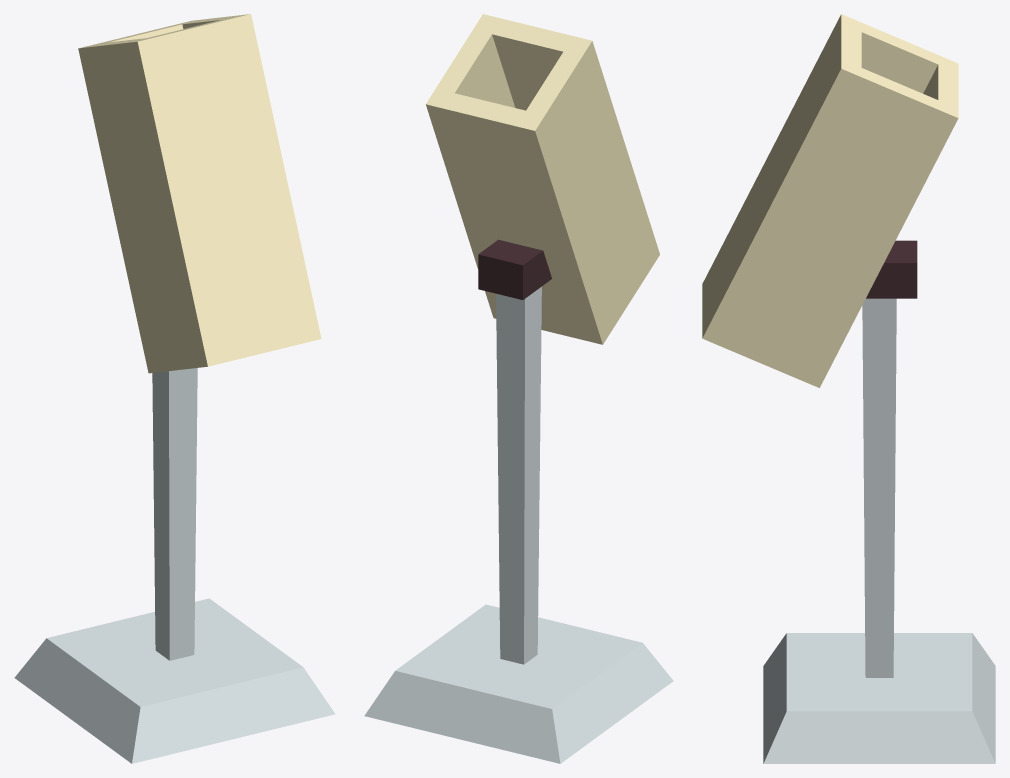
3 renders of one model, left to right at view 1: azimuth 30°, elevation 25°; view 2: azimuth 150°, elevation 25°; view 3: azimuth 270°, elevation 25°, orthographic. The views are drawn at different scales.
Parts seen in each view (by area): view 1: lamp-head-shell, lamp-base-and-post; view 2: lamp-head-shell, lamp-base-and-post, lamp-hinge-bracket; view 3: lamp-head-shell, lamp-base-and-post, lamp-hinge-bracket.
Part boxes in pixels (x1,y1,x2,y2): lamp-head-shell: (78, 14, 321, 373); lamp-base-and-post: (14, 368, 335, 763); lamp-head-shell: (425, 14, 659, 344); lamp-base-and-post: (364, 286, 673, 763); lamp-hinge-bracket: (478, 239, 551, 299); lamp-head-shell: (702, 14, 958, 387); lamp-base-and-post: (763, 298, 995, 763); lamp-hinge-bracket: (866, 240, 917, 298).
Bounding box in the file's own units: 0.1356 × 0.4341 × 0.1713.
